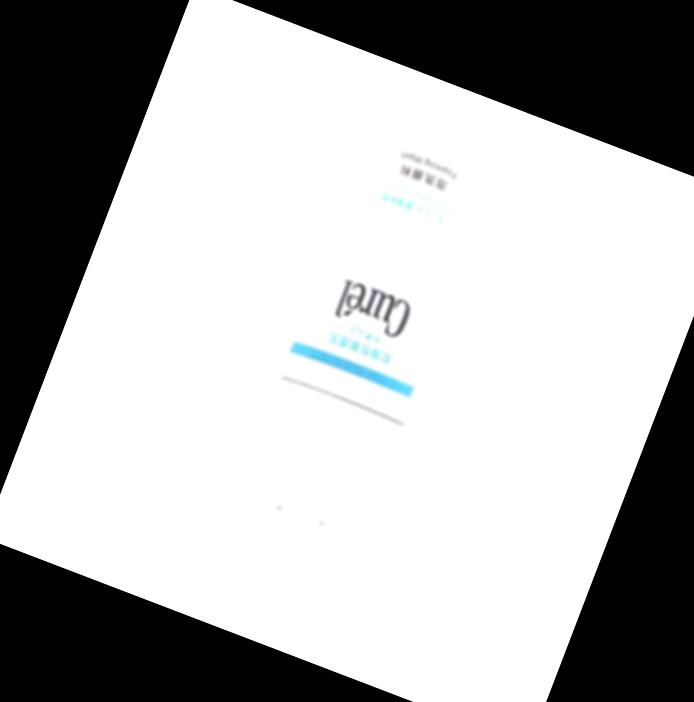cosmetic: (172, 77, 550, 638)
